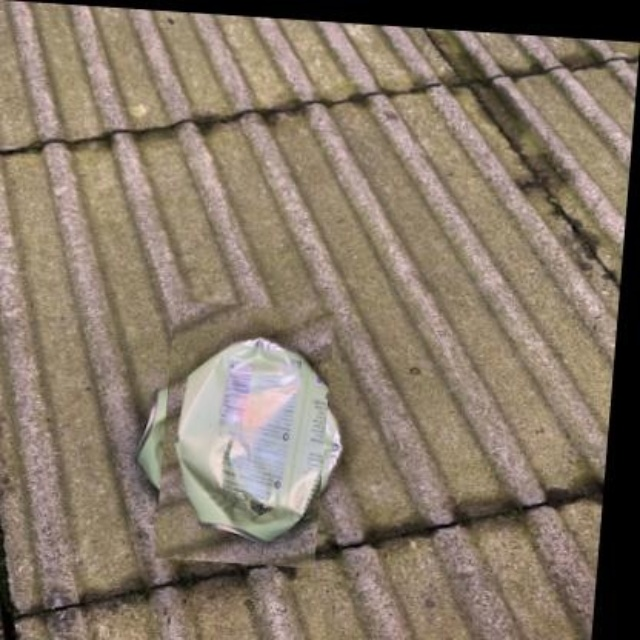trash: (138, 338, 340, 540), (177, 338, 340, 540)
